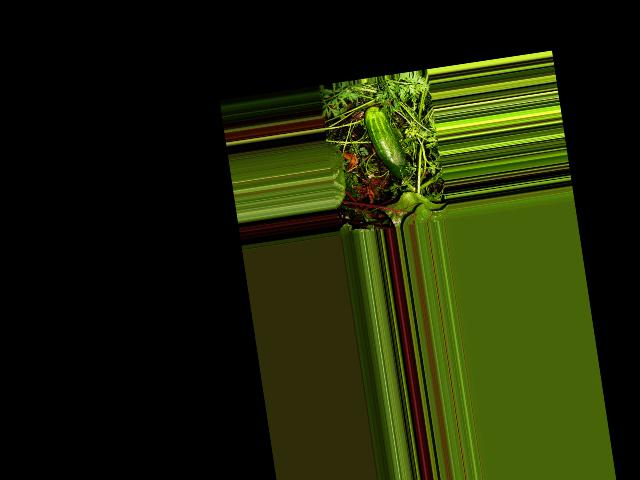cucumber: (363, 103, 411, 184)
